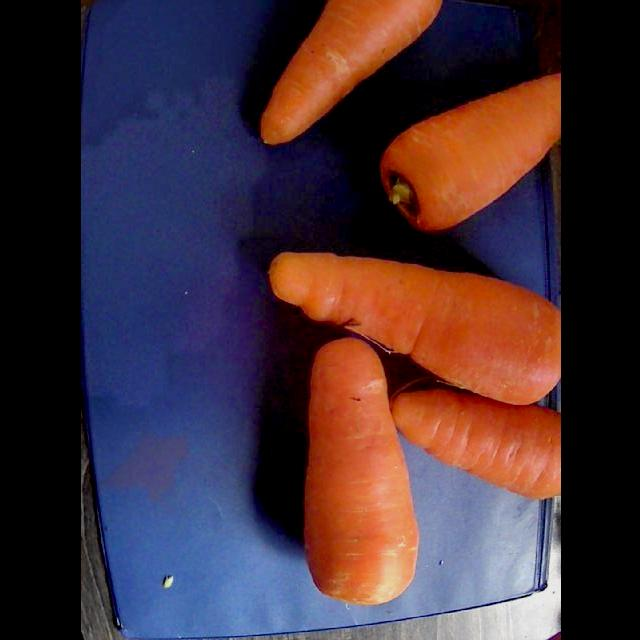zanahoria: (269, 252, 560, 404), (304, 339, 418, 604), (380, 72, 560, 230), (261, 0, 441, 144), (391, 390, 560, 498)
